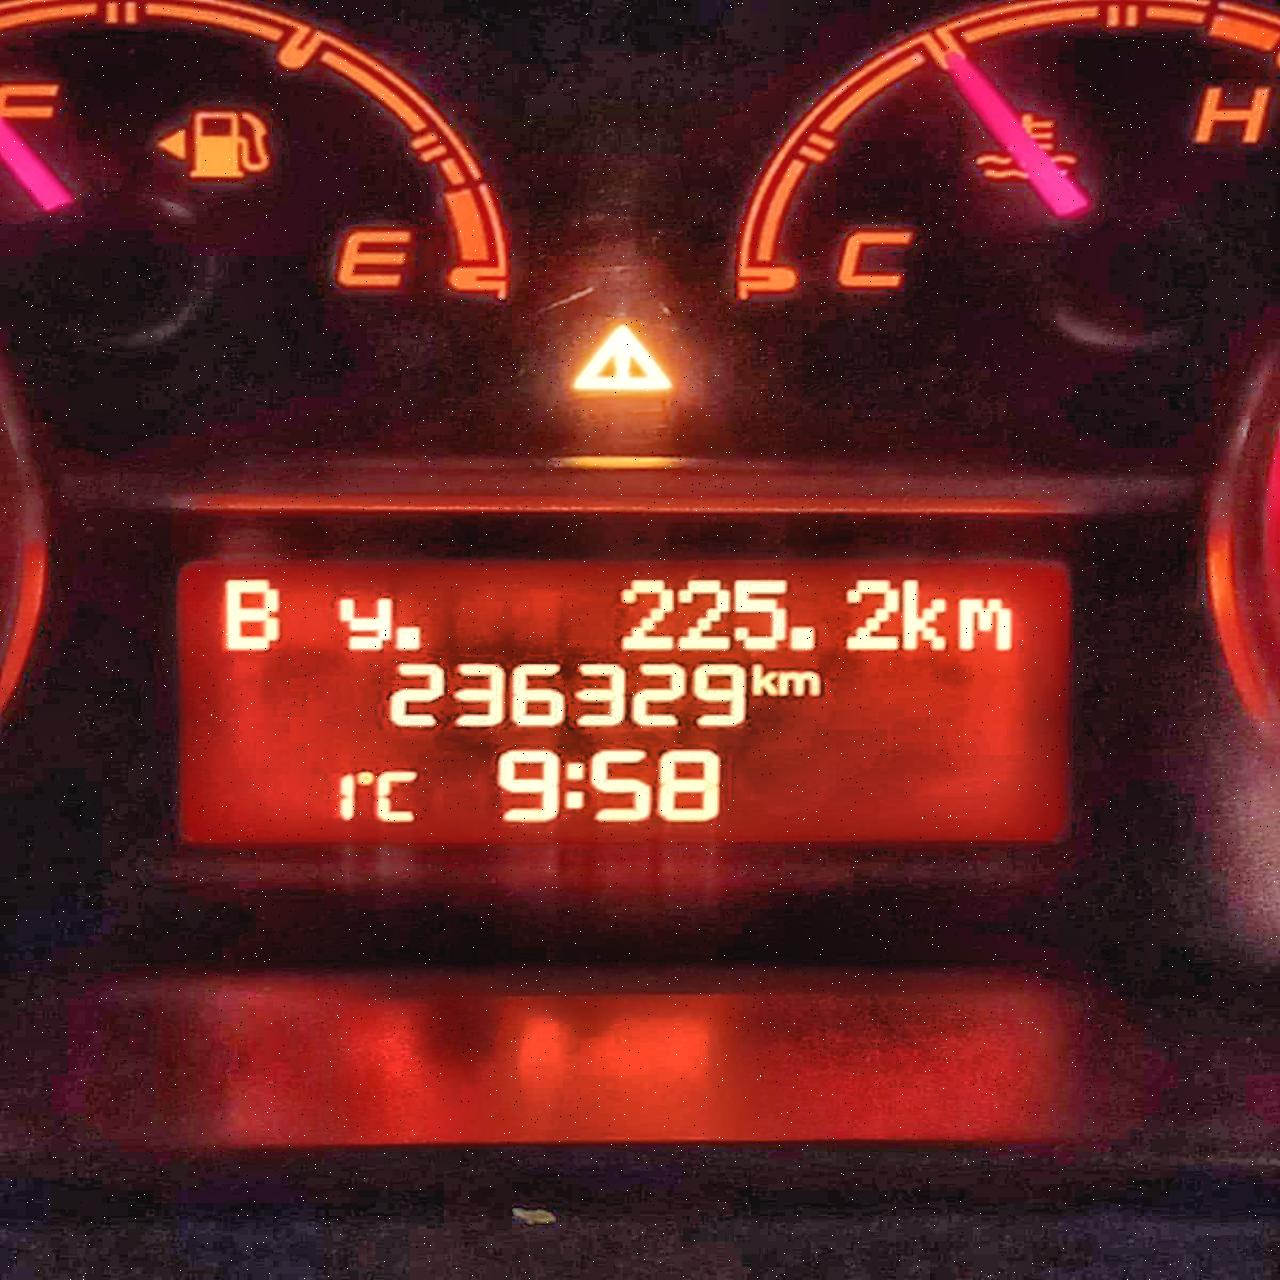-: (392, 624, 422, 652), (786, 625, 818, 651)
1: (334, 773, 356, 821)
2: (843, 577, 902, 651), (673, 576, 731, 651), (384, 661, 446, 730), (618, 577, 675, 651), (628, 662, 687, 728)
3: (450, 660, 507, 728), (573, 662, 628, 727)
5: (585, 749, 654, 822), (731, 576, 787, 652)
6: (508, 660, 567, 728)
8: (653, 748, 723, 822)
9: (493, 747, 561, 823), (690, 662, 748, 728)
X: (220, 575, 282, 651), (901, 578, 950, 653), (954, 596, 1014, 653), (336, 595, 393, 652), (372, 769, 418, 822), (776, 668, 822, 698), (562, 761, 585, 809), (748, 663, 778, 697)
odometer: (163, 550, 1083, 862)
